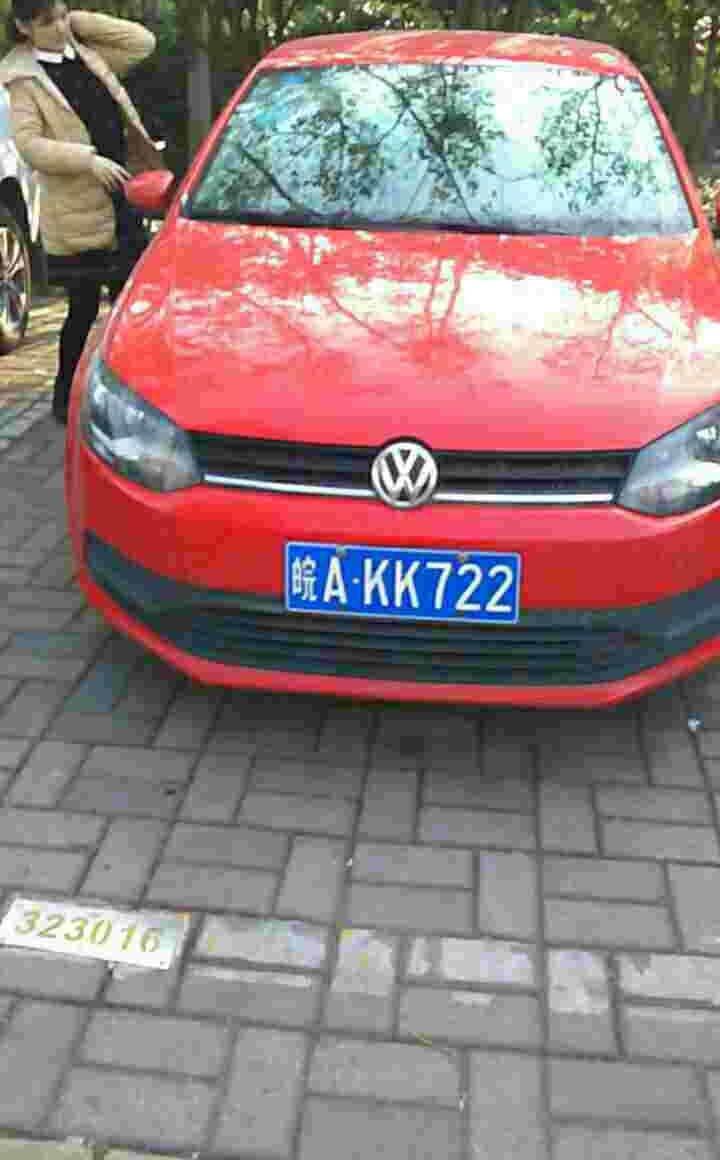plate: (285, 539, 526, 629)
